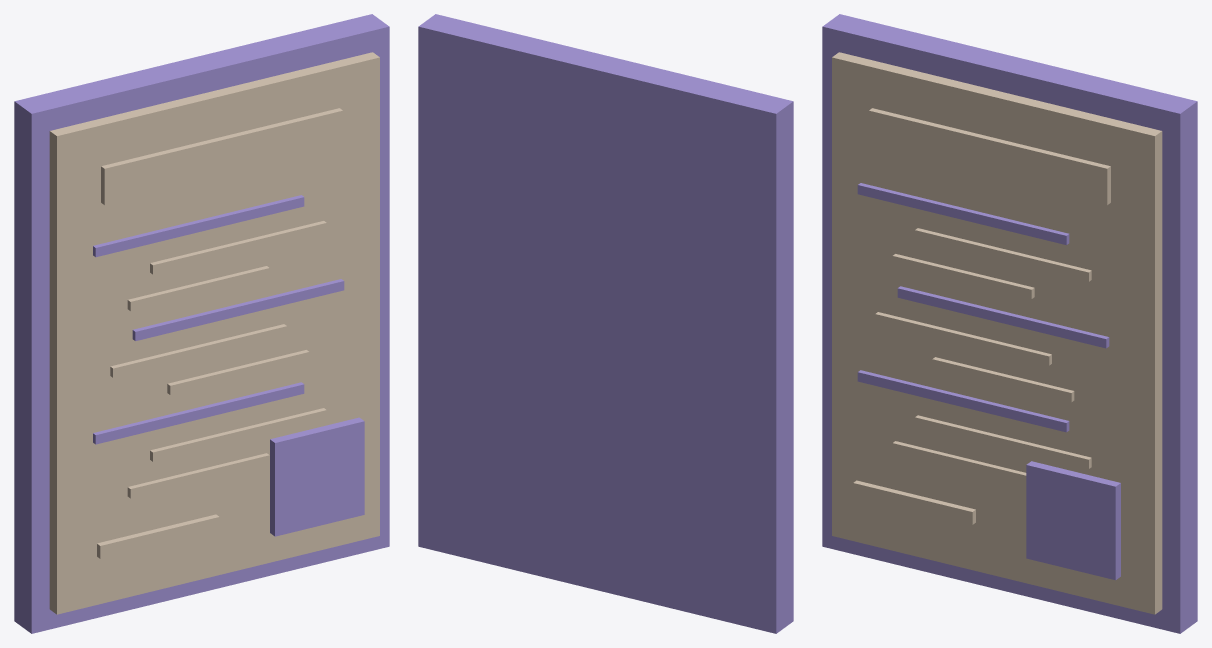
The model's file is certificate_gas.gltf.
3 renders of one model, left to right at view 1: azimuth 30°, elevation 25°; view 2: azimuth 150°, elevation 25°; view 3: azimuth 330°, elevation 25°, orthographic.
Visible parts, largest first — view 1: paper, frame, header, stamp, text_3, text_0, text_6, text_1, text_4, text_7, signature, text_5 (+2 smaller); view 2: frame; view 3: paper, frame, header, stamp, text_6, text_3, text_0, text_4, text_7, text_1, signature, text_5 (+2 smaller).
Boxes of the visible parts, bbox=[...] form: paper: bbox=[49, 52, 379, 614]; frame: bbox=[14, 14, 389, 633]; header: bbox=[101, 108, 342, 204]; stamp: bbox=[270, 417, 364, 536]; text_3: bbox=[132, 279, 344, 341]; text_0: bbox=[93, 195, 304, 257]; text_6: bbox=[93, 382, 304, 444]; text_1: bbox=[150, 221, 326, 274]; text_4: bbox=[110, 324, 286, 377]; text_7: bbox=[150, 408, 326, 461]; signature: bbox=[97, 514, 219, 558]; text_5: bbox=[167, 350, 309, 394]; frame: bbox=[418, 14, 793, 633]; paper: bbox=[832, 52, 1162, 614]; frame: bbox=[822, 14, 1197, 633]; header: bbox=[869, 108, 1110, 204]; stamp: bbox=[1026, 461, 1120, 580]; text_6: bbox=[857, 370, 1069, 432]; text_3: bbox=[897, 286, 1109, 348]; text_0: bbox=[857, 183, 1069, 245]; text_4: bbox=[875, 312, 1051, 365]; text_7: bbox=[915, 415, 1091, 468]; text_1: bbox=[915, 228, 1091, 281]; signature: bbox=[853, 480, 975, 524]; text_5: bbox=[932, 357, 1074, 402].
Size of the model in its own units: 0.72 by 1 by 0.129.
